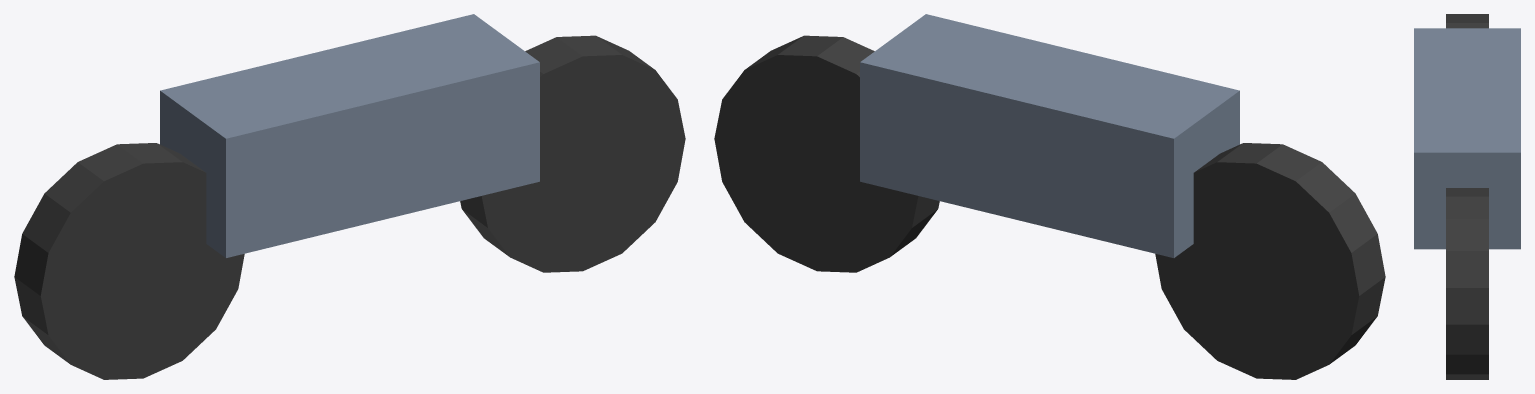
The model's file is vehicle_motorcycle.glb.
3 views of the same model, side by side, from view 1: azimuth 30°, elevation 25°; view 2: azimuth 150°, elevation 25°; view 3: azimuth 270°, elevation 25° (orthographic). The views are drawn at different scales.
Visible parts, largest first — view 1: vehicle_motorcycle; view 2: vehicle_motorcycle; view 3: vehicle_motorcycle.
Part boxes in pixels (x1,y1,x2,y2): vehicle_motorcycle: (14, 14, 685, 379); vehicle_motorcycle: (714, 14, 1385, 379); vehicle_motorcycle: (1414, 14, 1520, 379).
Size of the model in its own units: 2.26 by 0.8 by 0.4.
